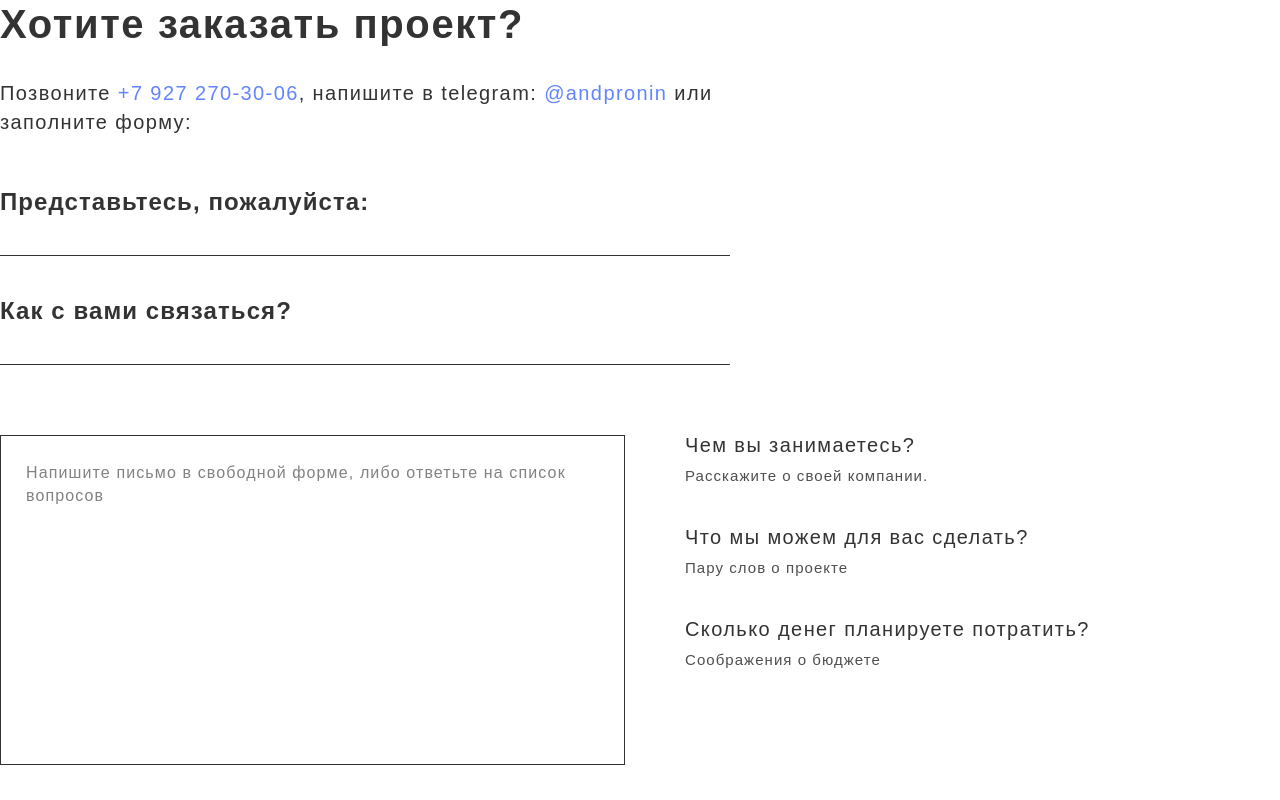
Form › not sending if "Message" and "File" is empty
In the field with test id "nameInput": (365, 222) [0,187,730,256], type "John Doe"
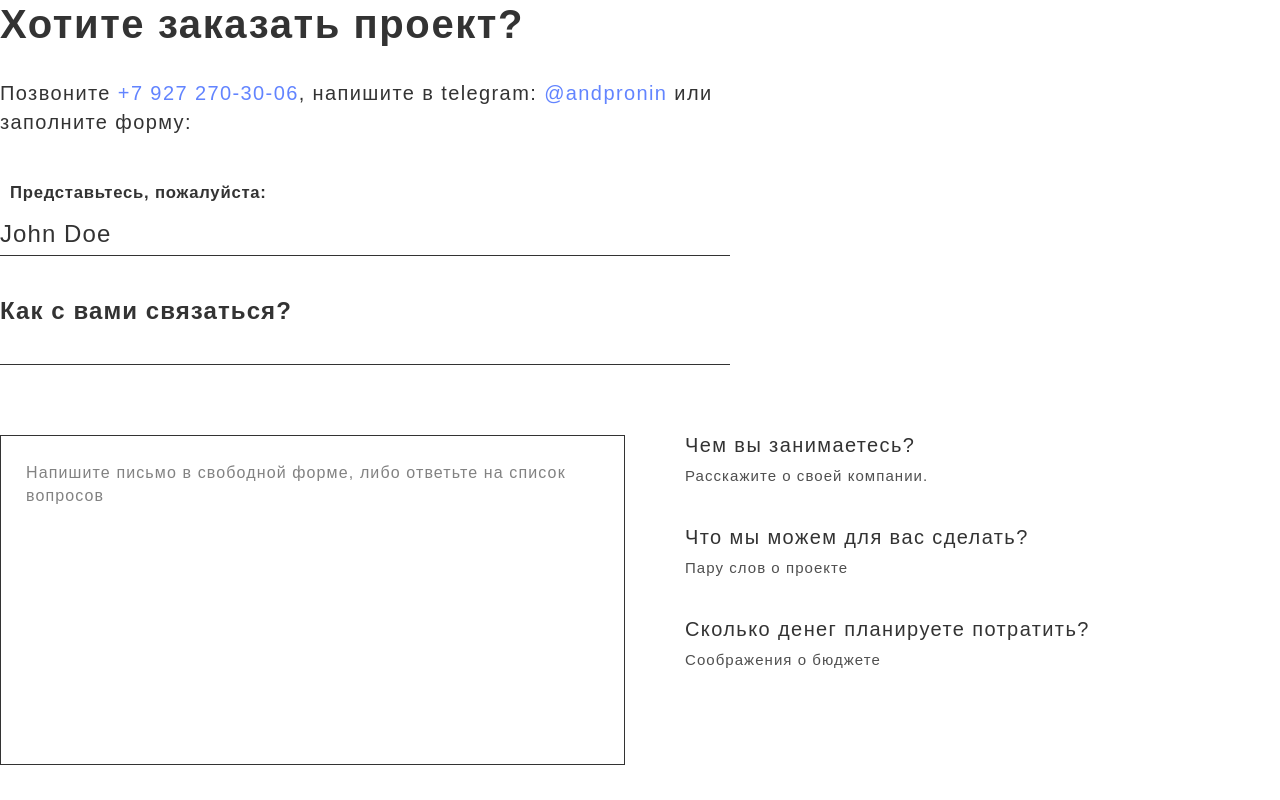
In the field with test id "communicateInput": (365, 331) [0,296,730,365], type "88005553535"
(page scrolled)
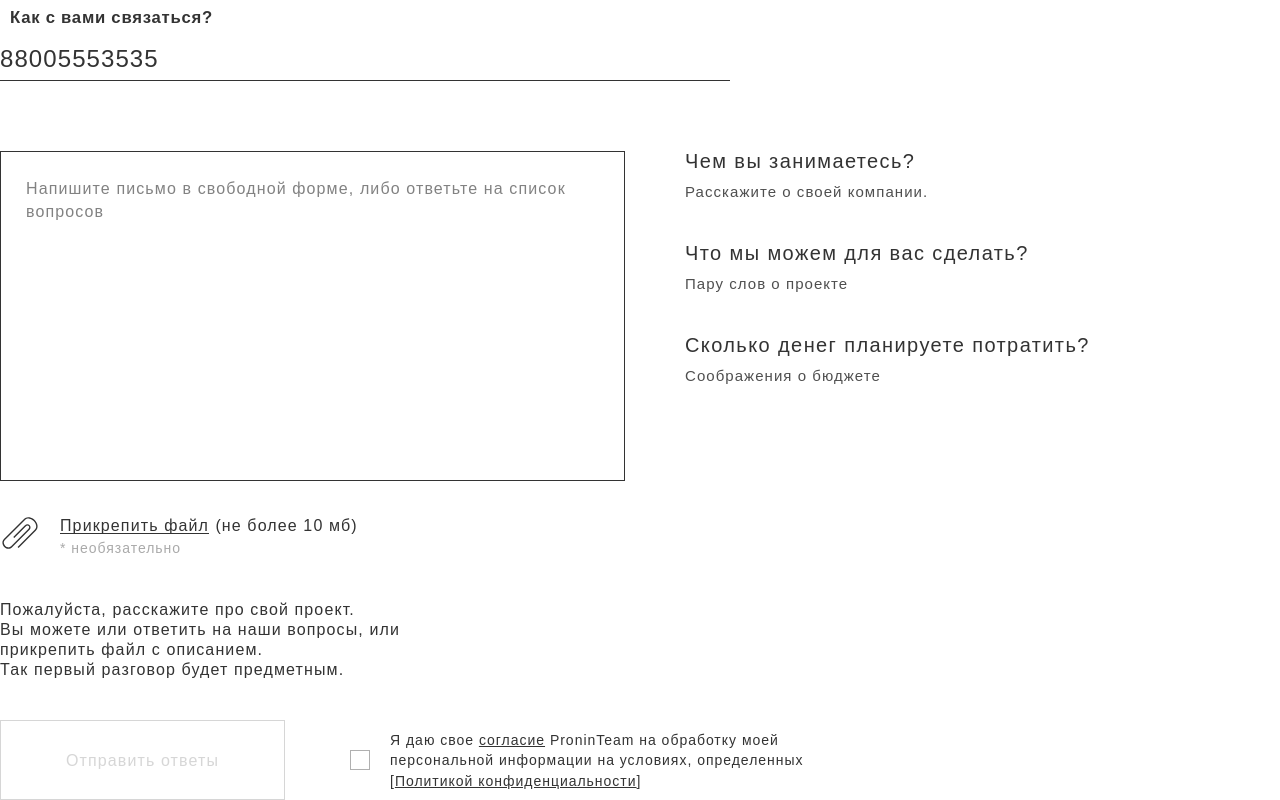
Click the checkbox with test id "agreeCheck": click(360, 760) [350,750,370,770]
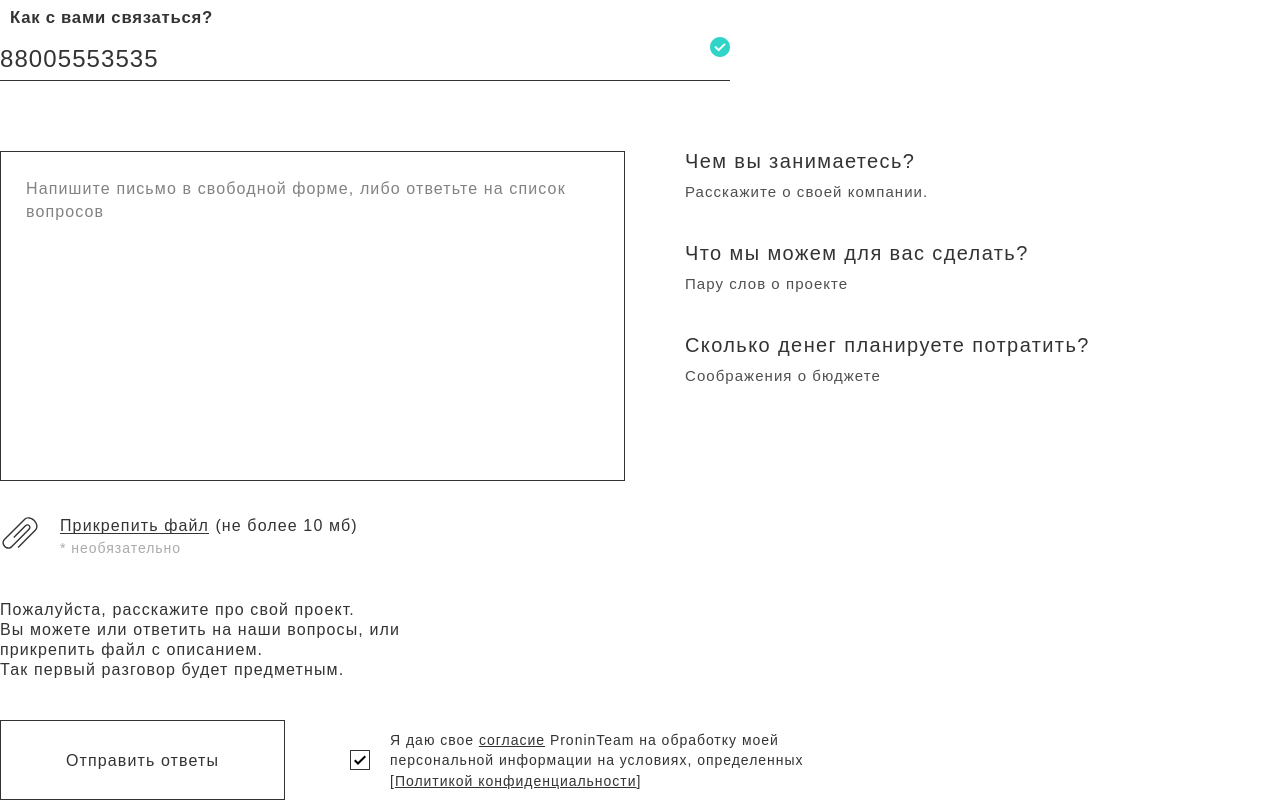
Click the button with test id "submitBtn": click(142, 760) [0,720,285,799]
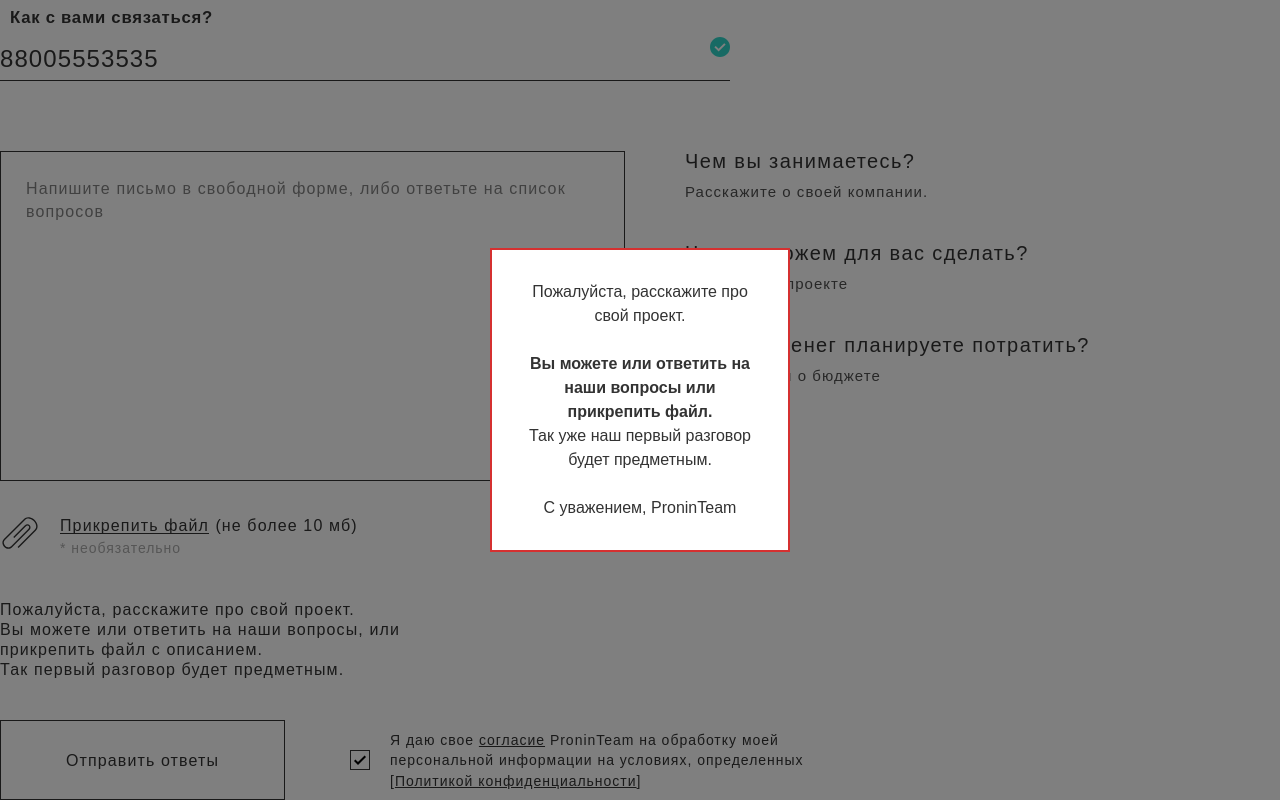
Result: the element with test id "submitModal" shows "Пожалуйста, расскажите про свой проект.Вы можете или ответить на наши вопросы или прикрепить файл.Так уже наш первый разговор будет предметным.С уважением, P" at [490,248,790,552]
